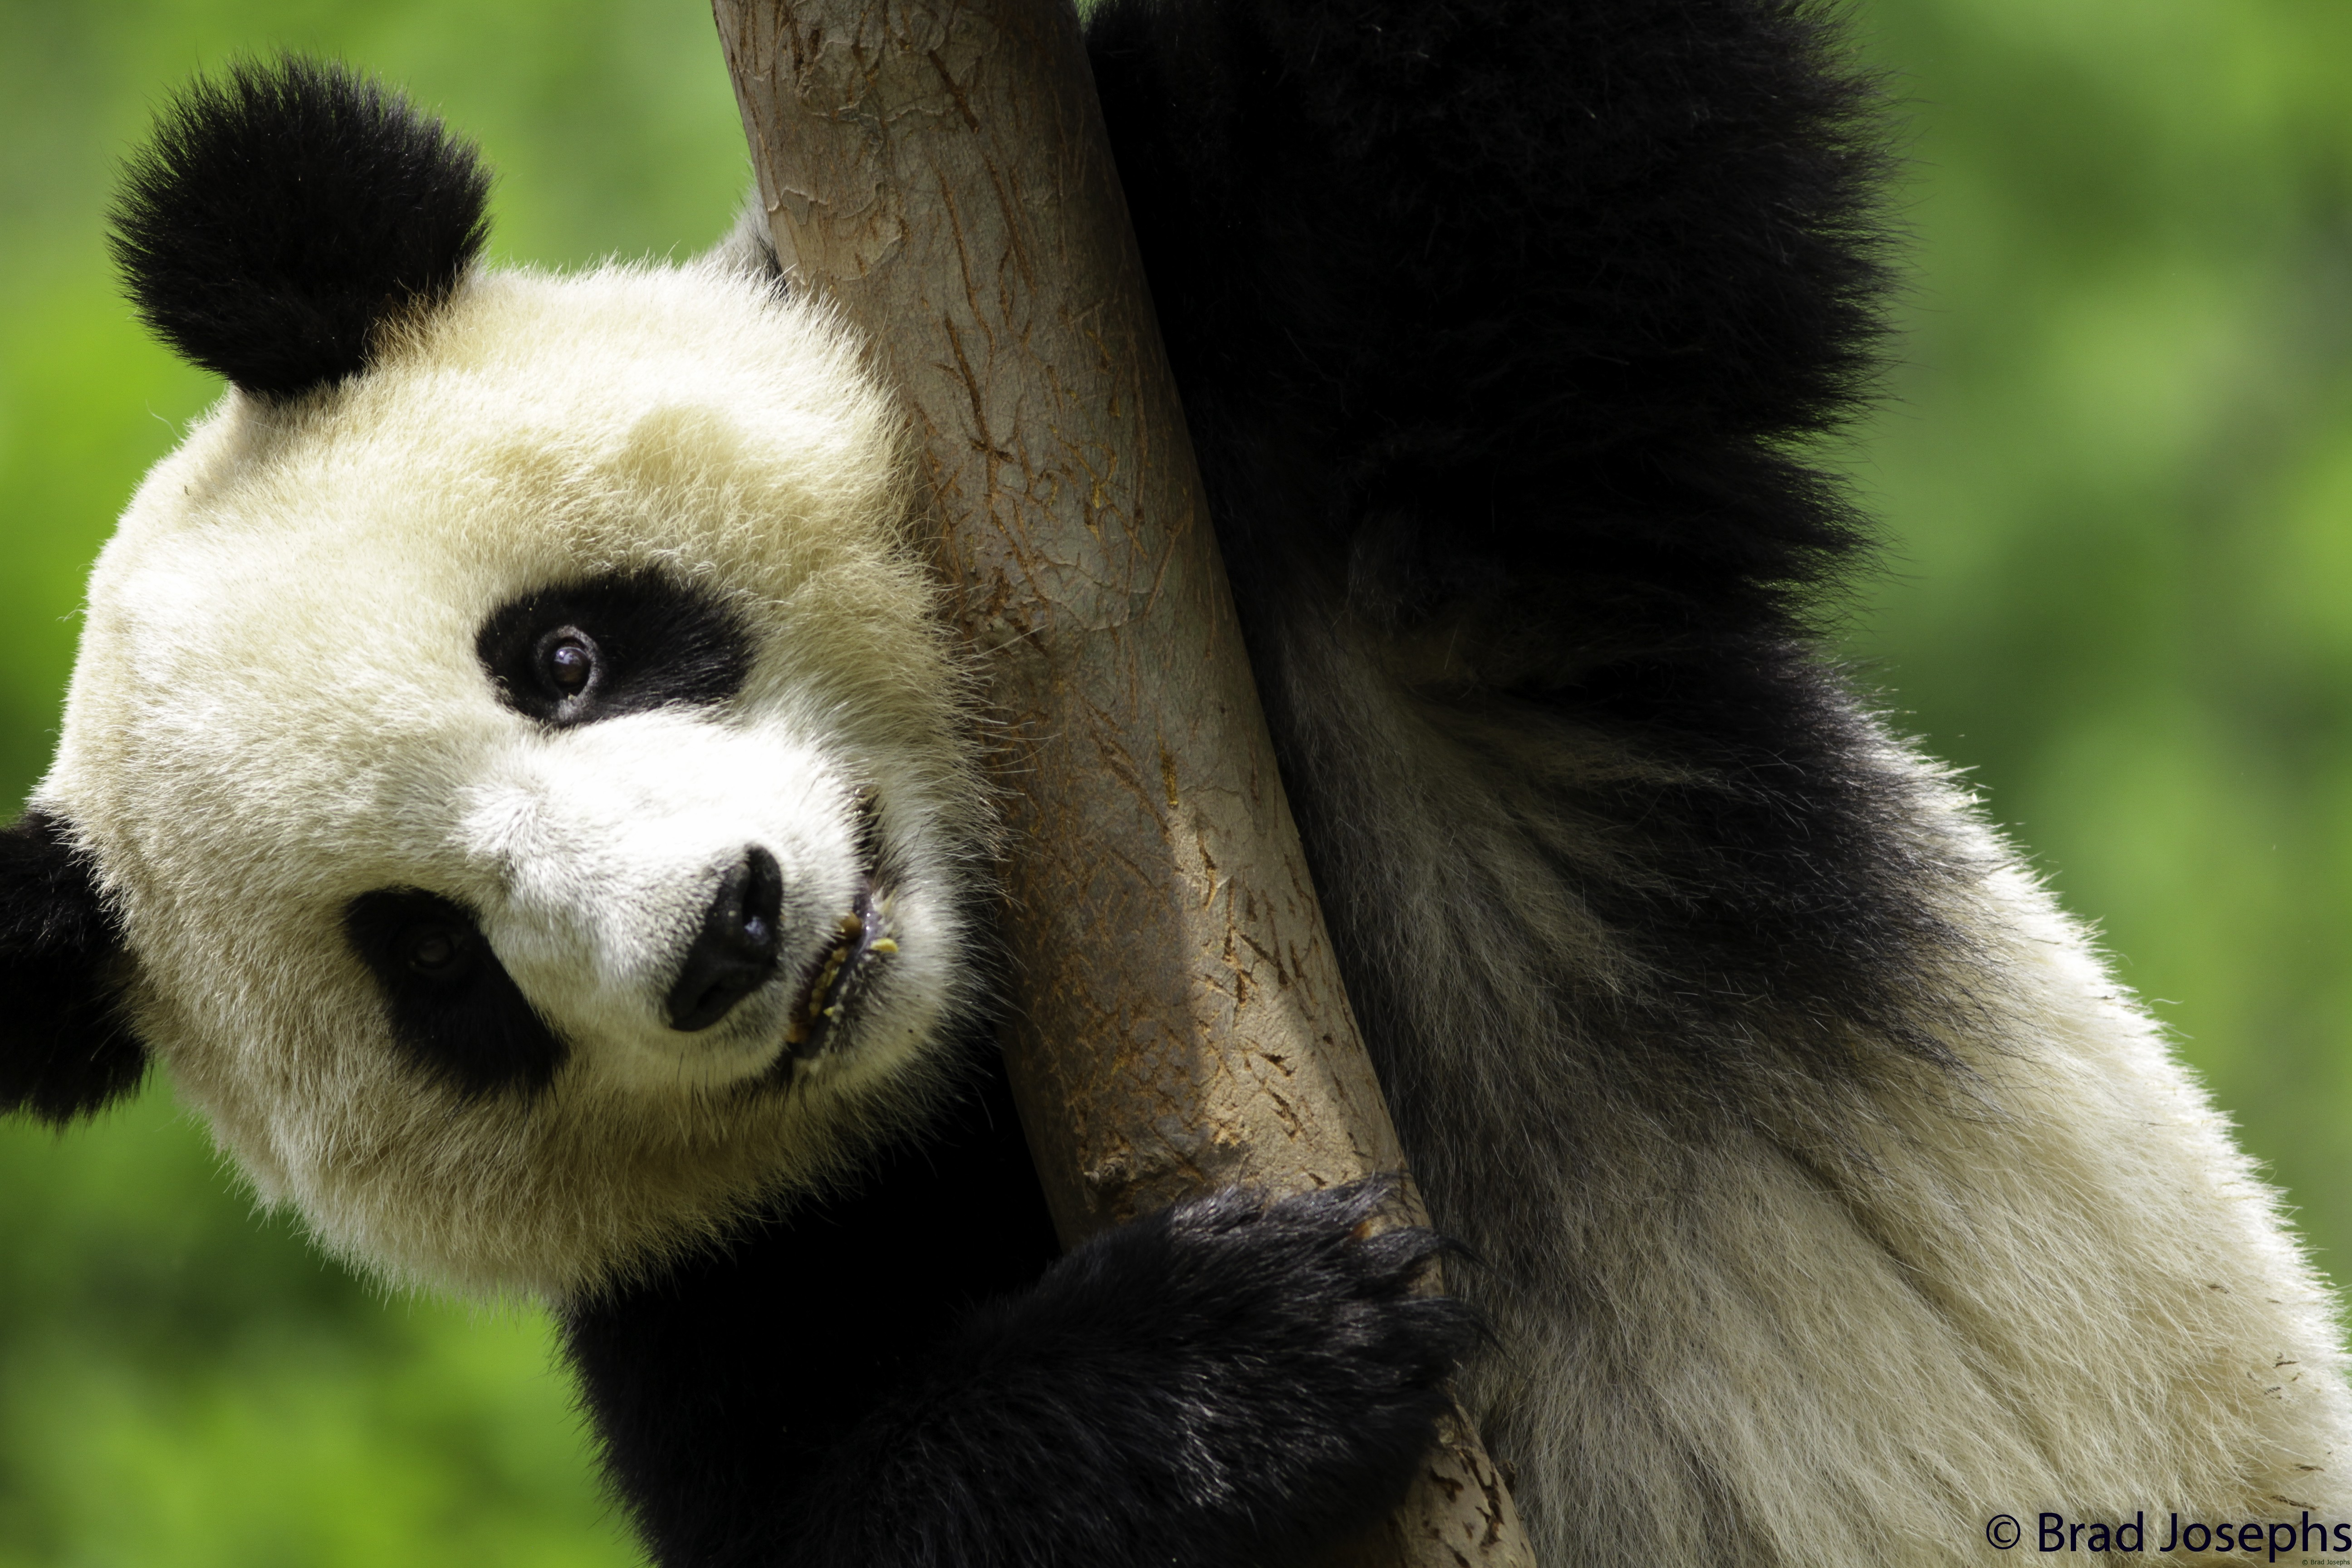panda: (49, 65, 2300, 1531)
